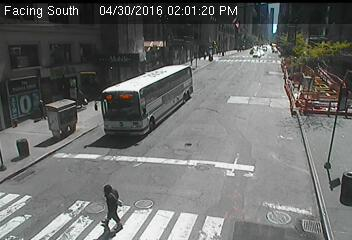neg: (264, 34, 283, 59), (128, 70, 144, 91), (289, 96, 304, 116), (210, 54, 225, 74)
pos: (92, 181, 129, 230), (34, 98, 50, 120)
